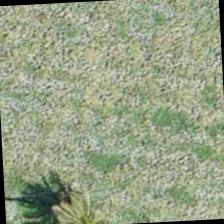Kelapa_Sawit: (20, 172, 114, 223)
